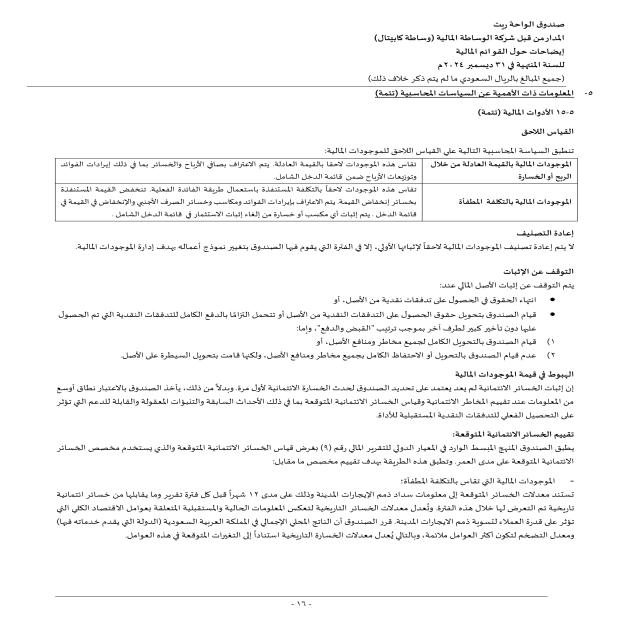notes: (449, 43, 566, 61)
table: (32, 157, 583, 222)
